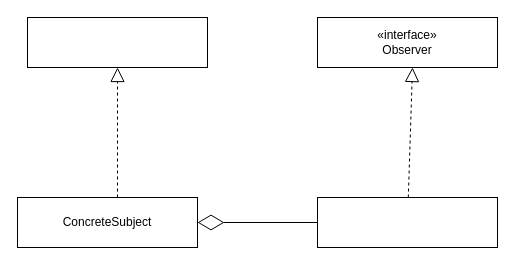
The diagram is 515 pixels wide and 266 high, and some of its shapes have lost their labels. The shapes that lost their labels are listed below. From the top down, each one's box as (x1, y1, x2, y2) in pixels, then its label:
(26, 16, 208, 68): «interface» Subject
(316, 196, 498, 248): ConcreteObserver
